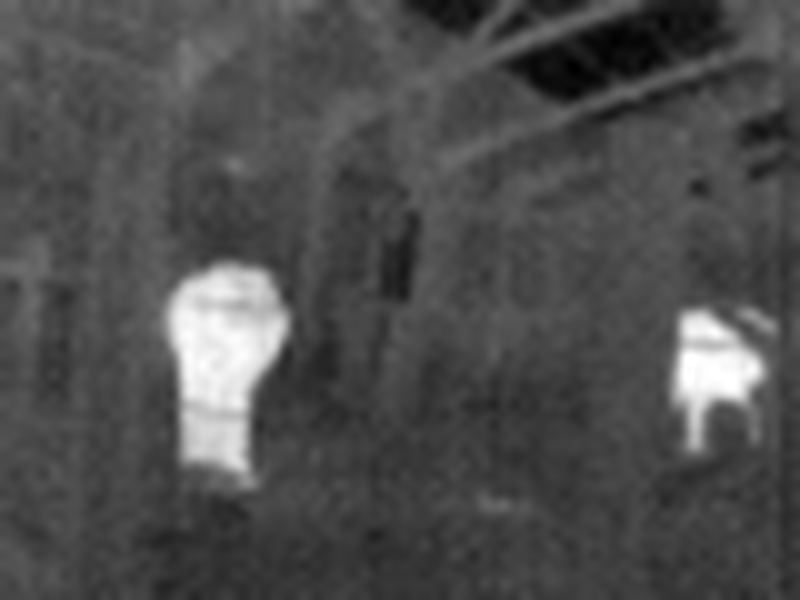elephant: (163, 255, 268, 488), (659, 303, 781, 444)
